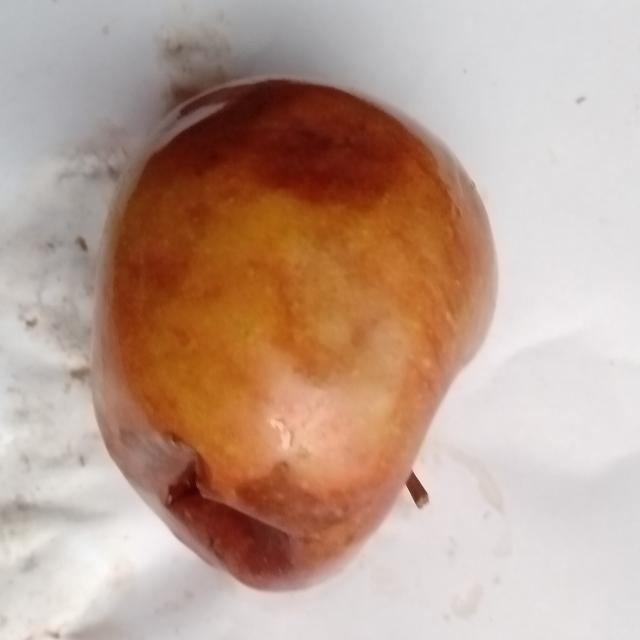apple: (93, 81, 495, 588)
